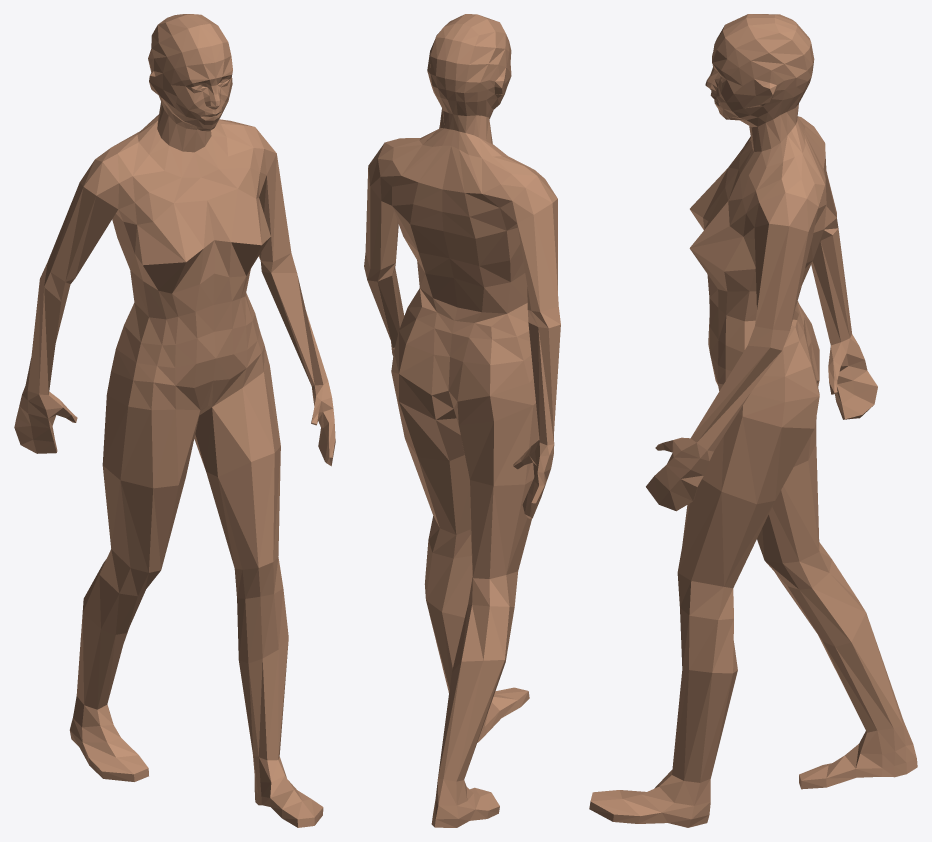
Rendered from Female_animated.obj.
3 views of the same model, side by side, from view 1: azimuth 30°, elevation 25°; view 2: azimuth 150°, elevation 25°; view 3: azimuth 270°, elevation 25° (orthographic). The views are drawn at different scales.
Visible parts, largest first — view 1: Female_stripped_lowpoly2:proxy741; view 2: Female_stripped_lowpoly2:proxy741; view 3: Female_stripped_lowpoly2:proxy741.
Part boxes in pixels (left/top/right/bottom): Female_stripped_lowpoly2:proxy741: left=14, top=14, right=335, bottom=827; Female_stripped_lowpoly2:proxy741: left=364, top=14, right=560, bottom=827; Female_stripped_lowpoly2:proxy741: left=589, top=14, right=917, bottom=827.
Size of the model in its own units: 5.07 by 15.98 by 6.05.
